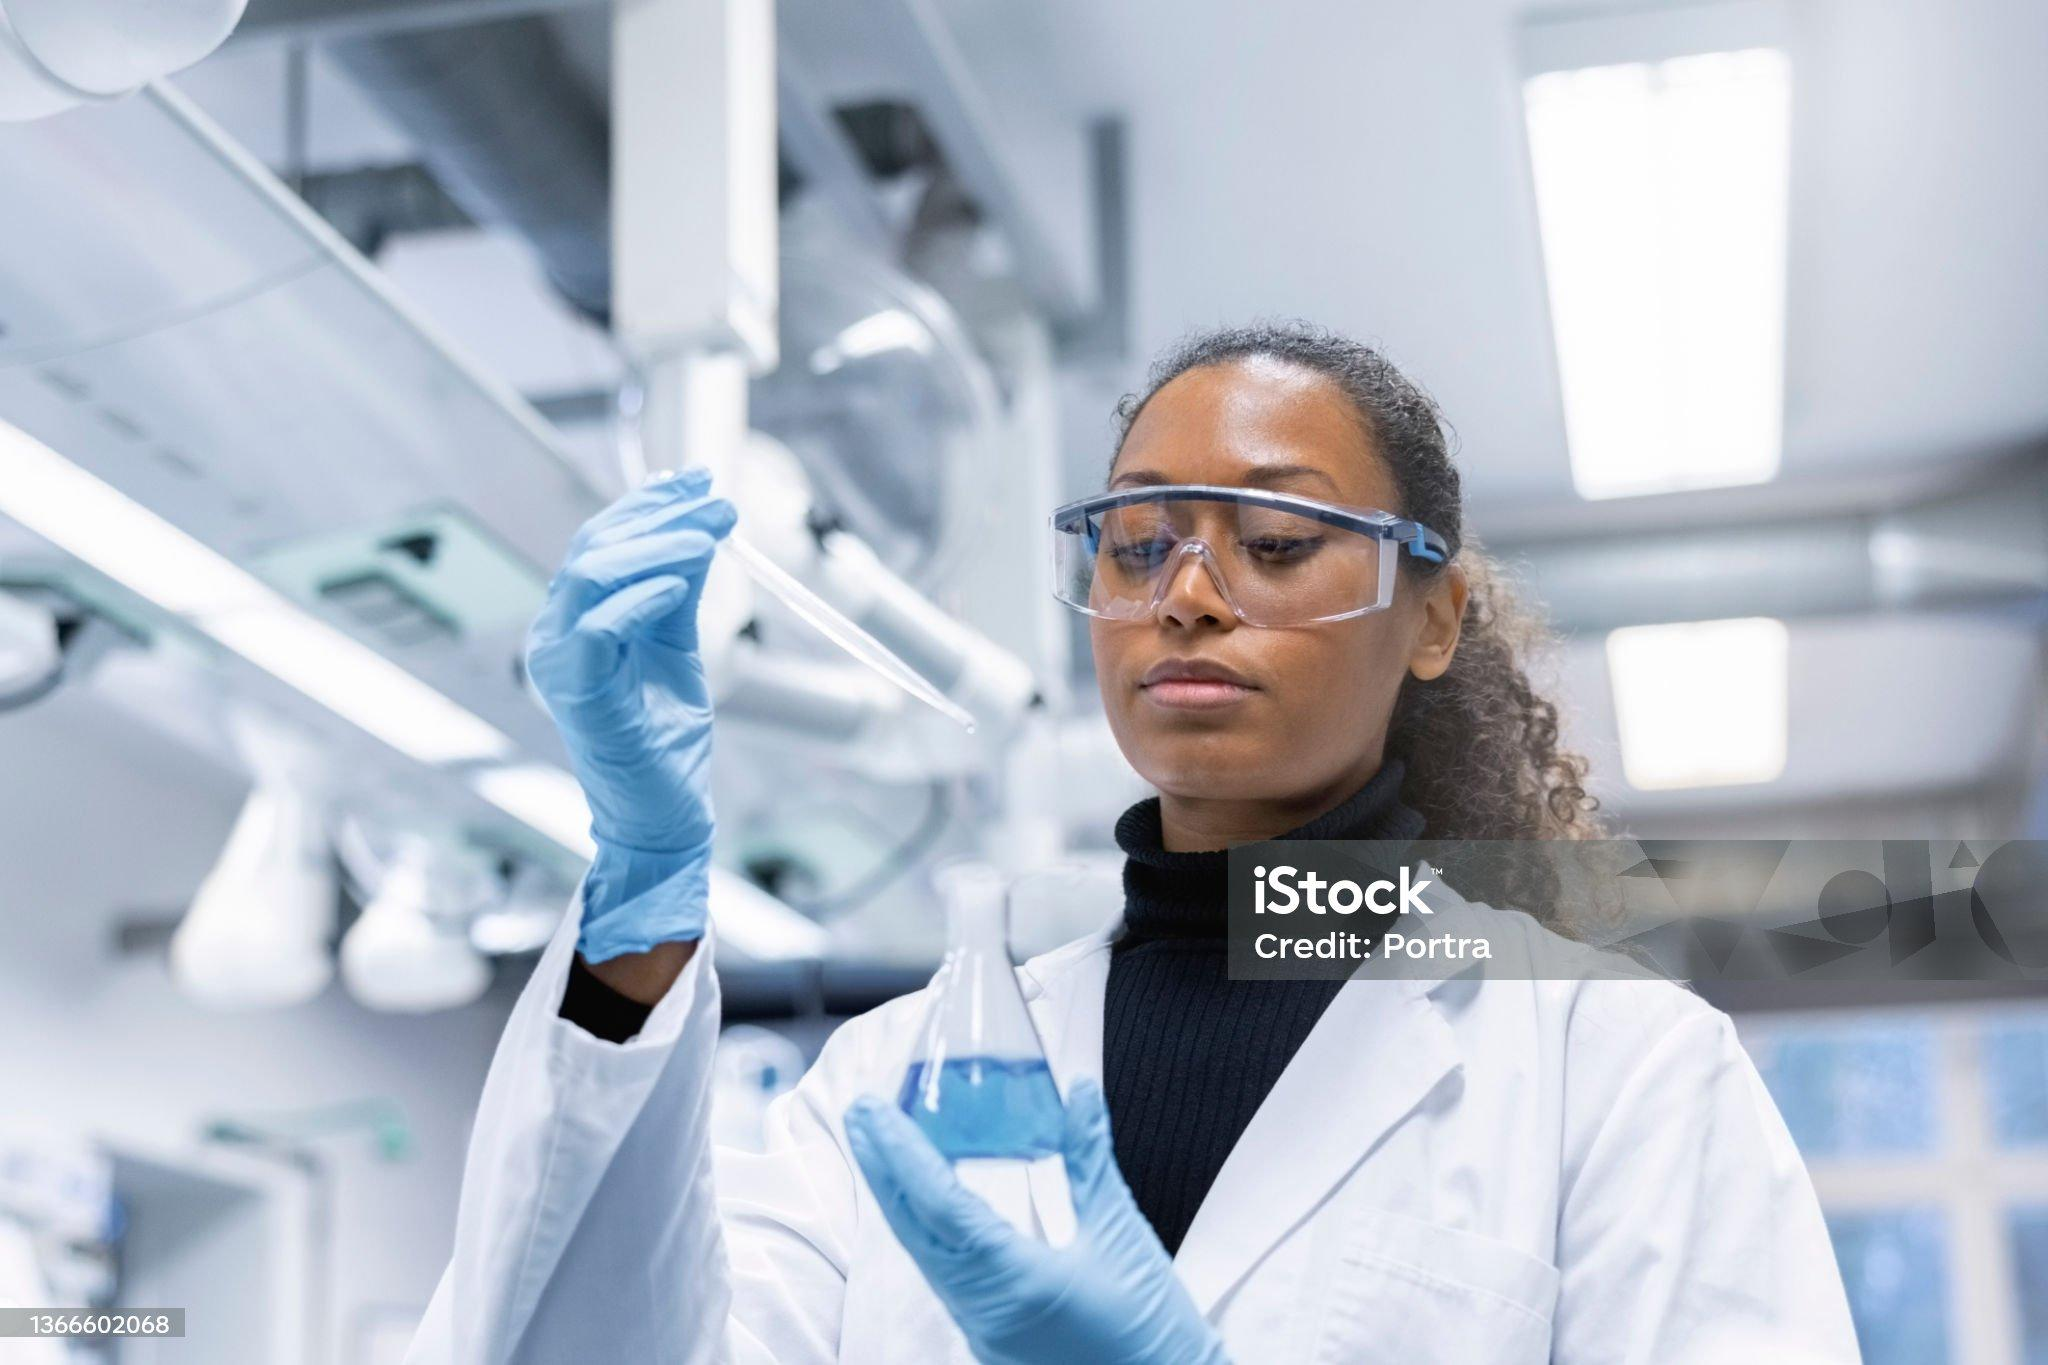Goggles: (1052, 484, 1456, 631)
